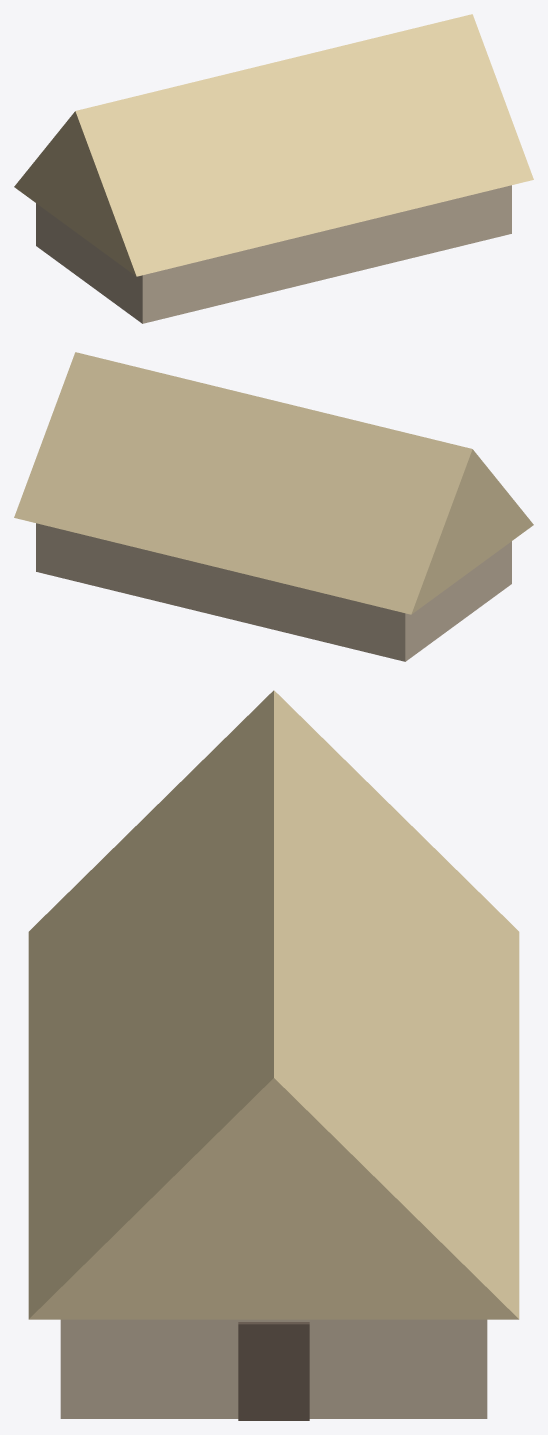
File: casa_lunga_media.glb
3 views of the same model, one above another, from view 1: azimuth 30°, elevation 25°; view 2: azimuth 150°, elevation 25°; view 3: azimuth 270°, elevation 25° (orthographic). The views are drawn at different scales.
Parts seen in each view (by area): view 1: casa_lunga_media; view 2: casa_lunga_media; view 3: casa_lunga_media.
Boxes of the visible parts, left/top/right/bottom form: casa_lunga_media: left=14, top=14, right=533, bottom=323; casa_lunga_media: left=14, top=352, right=533, bottom=661; casa_lunga_media: left=28, top=690, right=519, bottom=1420.
Bounding box in the file's own units: 12.9 × 5.5 × 6.9.
